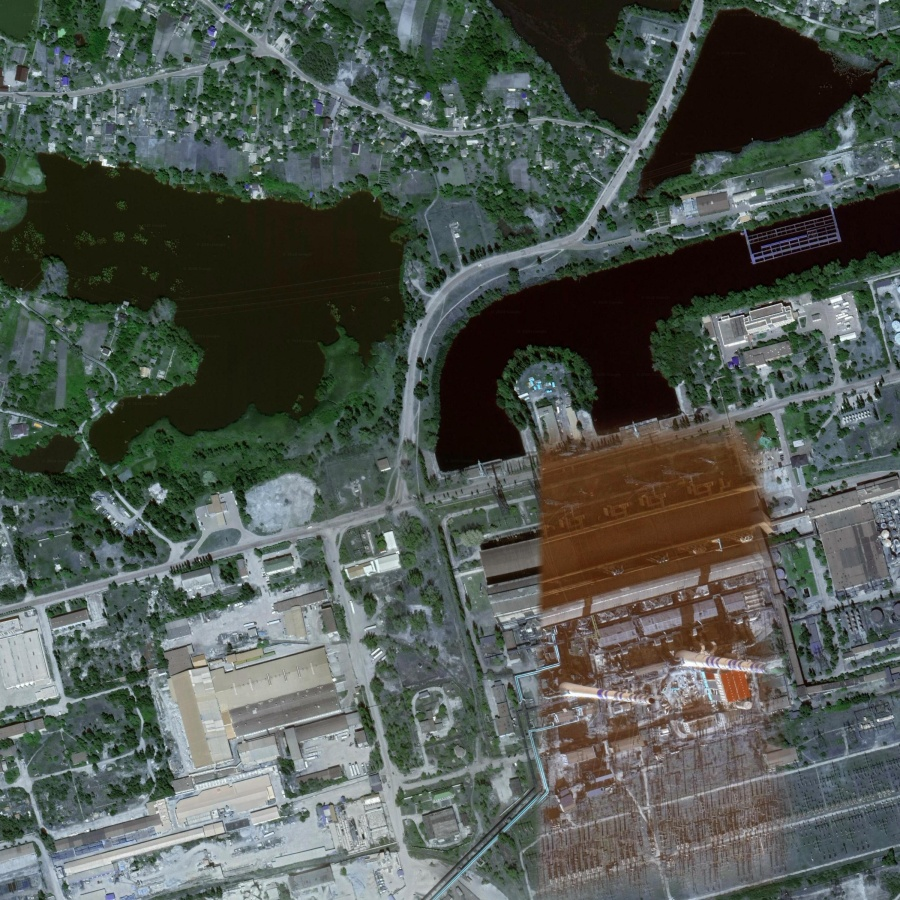PowerPlant: (504, 523, 844, 792)
